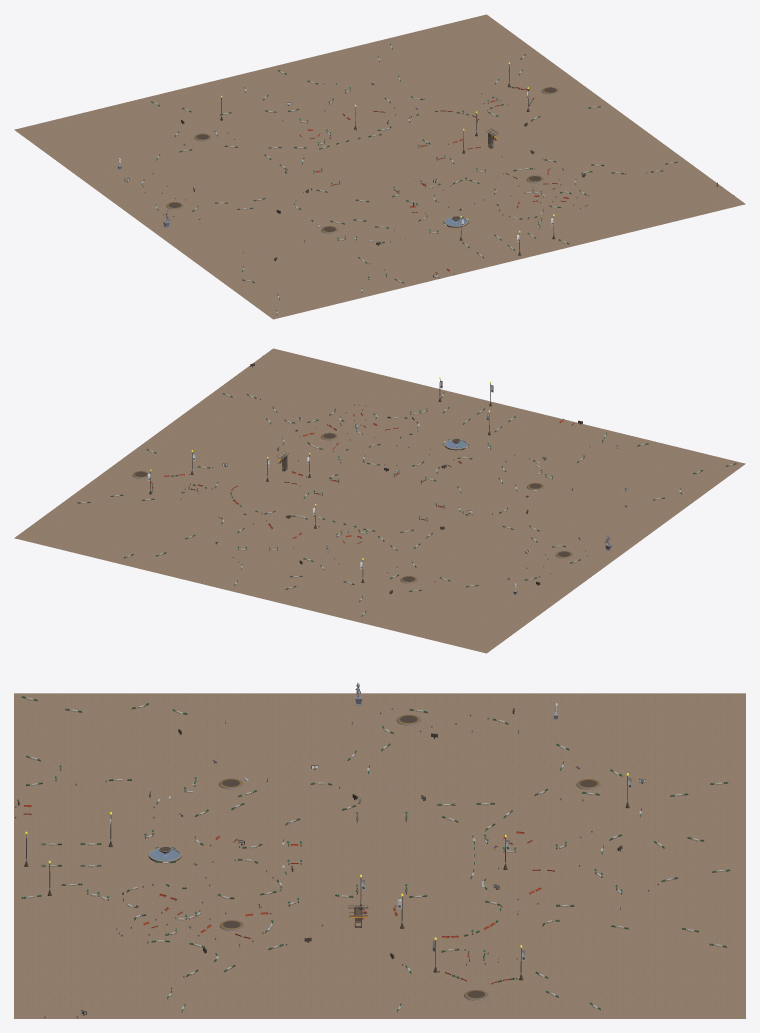
The model's file is street.glb.
The picture shows the model from 3 angles, top to bottom: view 1: azimuth 30°, elevation 25°; view 2: azimuth 150°, elevation 25°; view 3: azimuth 270°, elevation 25°; orthographic projection. The views are drawn at different scales.
Visible parts, largest first — view 1: Ground; view 2: Ground; view 3: Ground.
Part boxes in pixels (box(x1,y1,x2,y2)): Ground: box(14, 14, 745, 319); Ground: box(14, 348, 745, 653); Ground: box(14, 693, 745, 1018).
Size of what is drawn, in the model's own units: 320 by 16.16 by 304.
Materials: 8 (8 with a texture image).
